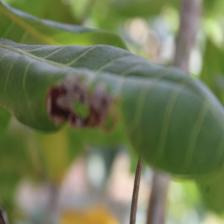leaf miner: (0, 34, 223, 178)
